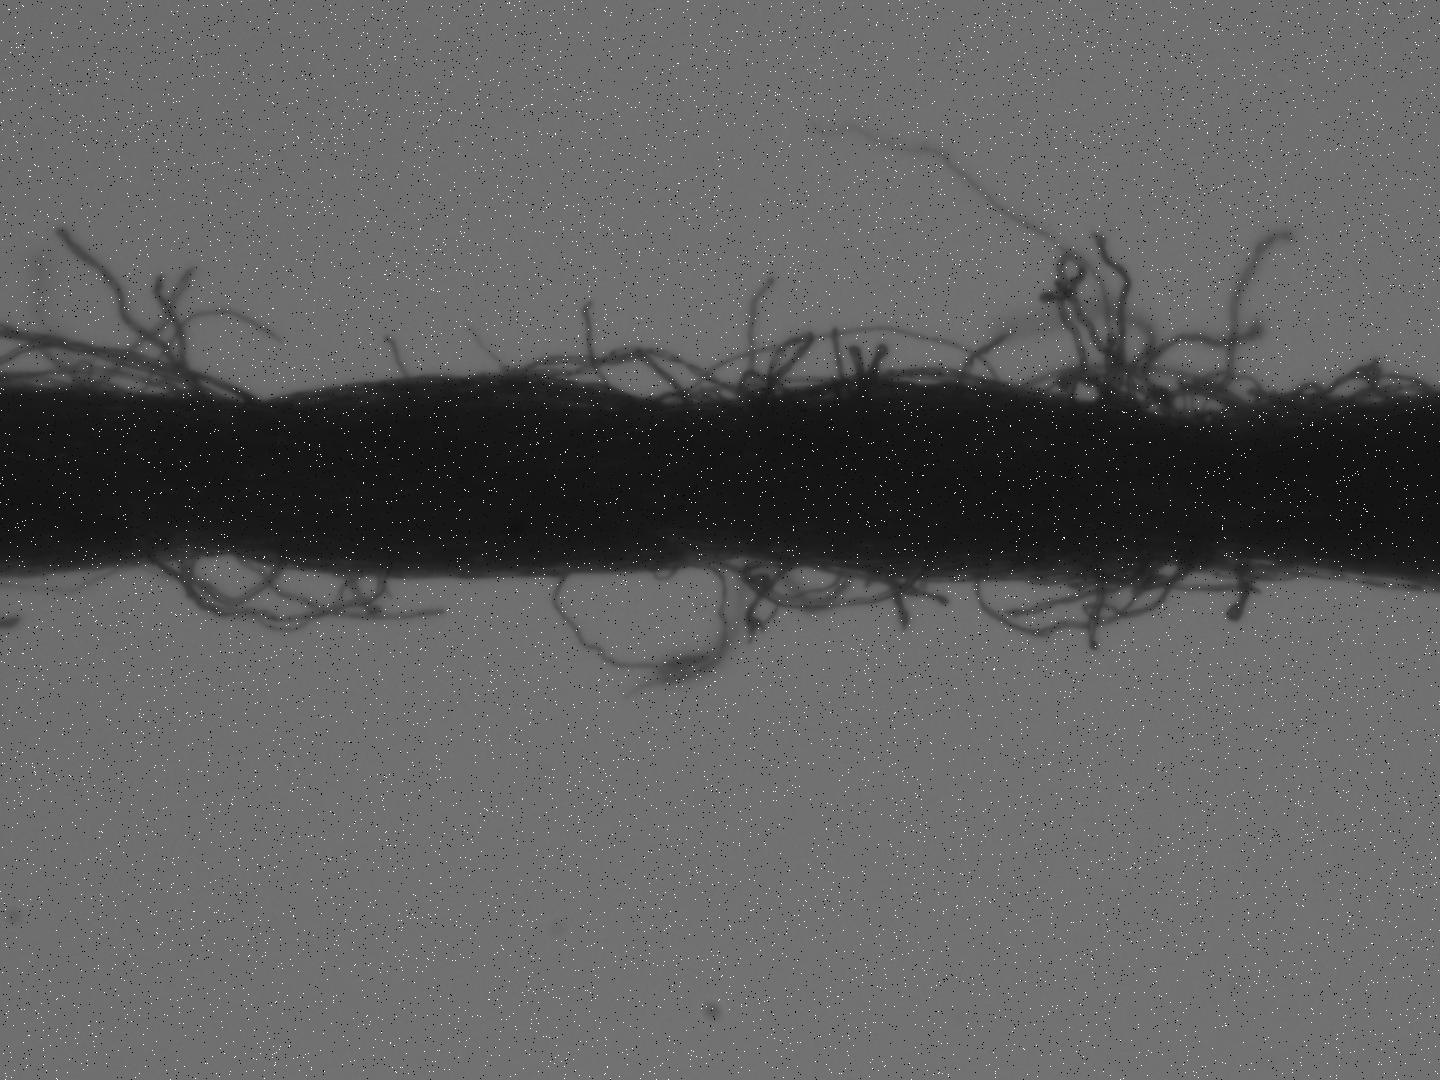loop_fiber: (973, 554, 1203, 638), (683, 540, 927, 614), (9, 331, 260, 402), (508, 344, 756, 412), (183, 549, 391, 621), (1020, 360, 1254, 416), (509, 346, 689, 406), (714, 550, 848, 598), (180, 550, 291, 604), (1288, 361, 1434, 400), (1041, 371, 1155, 413)
protruding_fiber: (578, 297, 621, 399), (384, 332, 413, 386)
